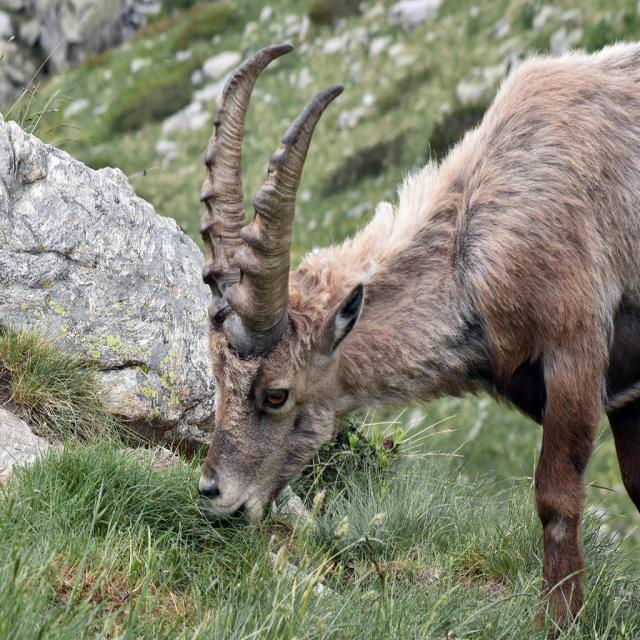Goat: (197, 32, 640, 640)
